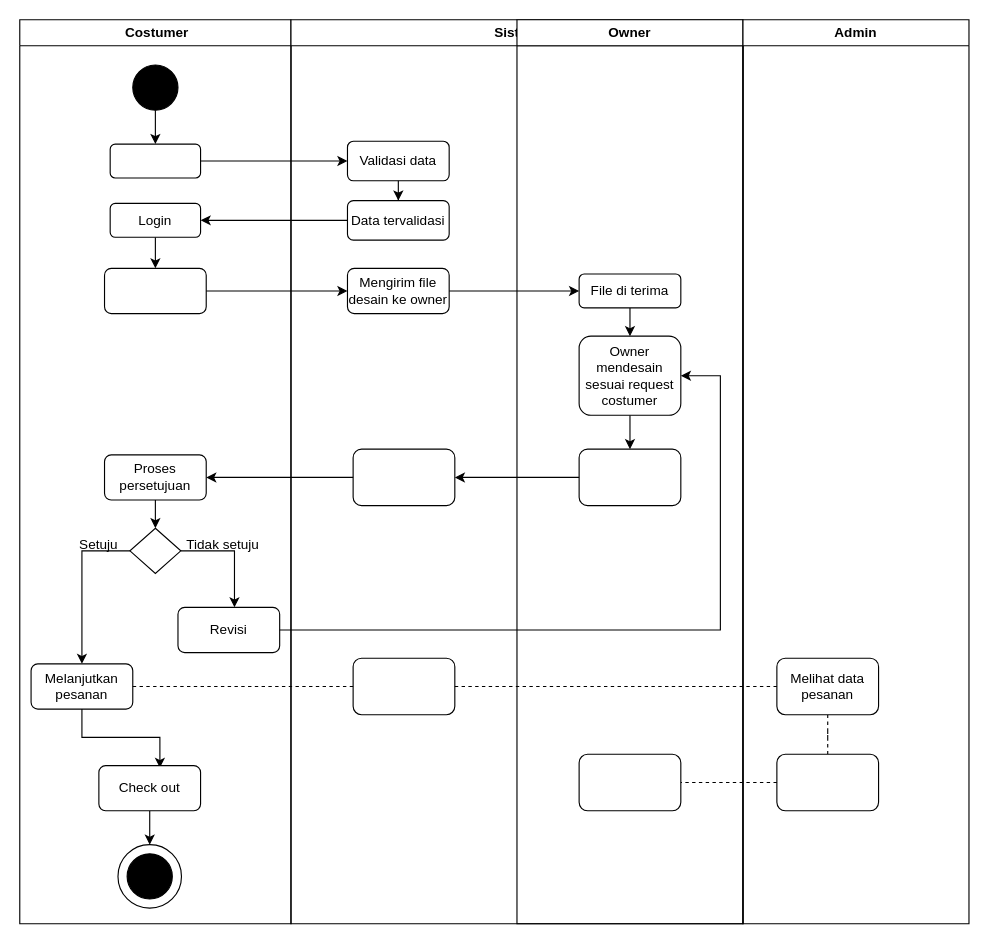
Some shapes in this 989 by 944 pixel diagram are drawn without their labels. The centre of each missing label's shape, as x and y in pixels:
data di terima: the point at 629,782
Mengirim data pesanan ke admin: the point at 403,686
Mengirim data pesanan ke owner: the point at 827,782
Mengirim File hasil desain ke costumer: the point at 403,477
Persetujuan hasil desain: the point at 629,477
Register: the point at 155,160
Upload gambar desain: the point at 154,290
